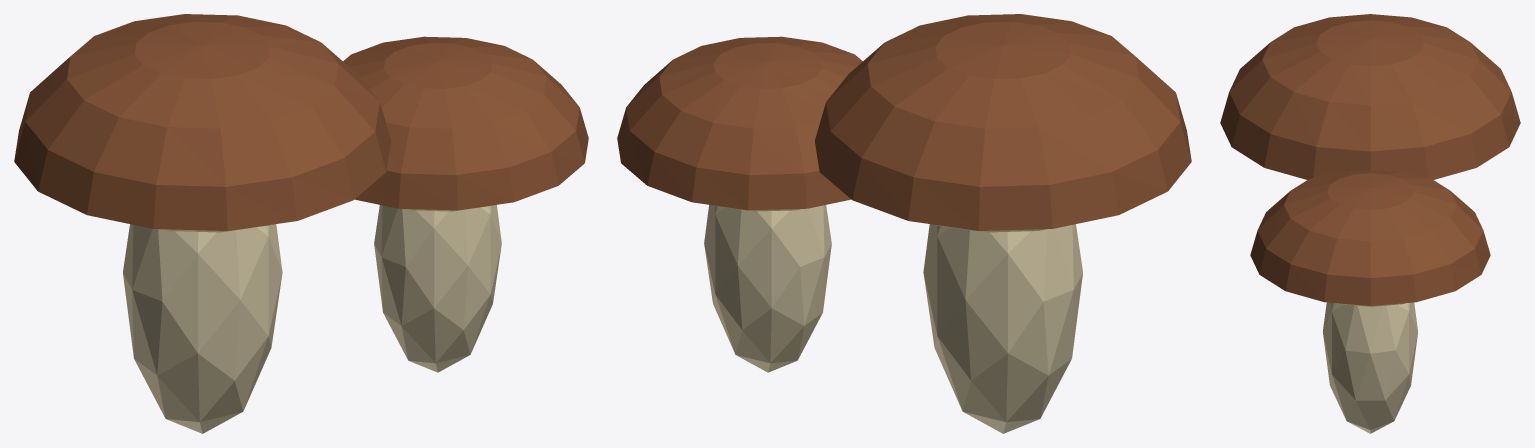
File: mushroom.glb
3 renders of one model, left to right at view 1: azimuth 30°, elevation 25°; view 2: azimuth 150°, elevation 25°; view 3: azimuth 270°, elevation 25°, orthographic. The views are drawn at different scales.
Visible parts, largest first — view 1: Porcini 1 brown cushion cap, Porcini 1 bulbous stem; view 2: Porcini 1 brown cushion cap, Porcini 1 bulbous stem; view 3: Porcini 1 brown cushion cap, Porcini 1 bulbous stem.
Boxes of the visible parts, bbox=[...] form: Porcini 1 brown cushion cap: bbox=[14, 14, 588, 230]; Porcini 1 bulbous stem: bbox=[123, 205, 501, 433]; Porcini 1 brown cushion cap: bbox=[617, 14, 1191, 230]; Porcini 1 bulbous stem: bbox=[704, 205, 1082, 433]; Porcini 1 brown cushion cap: bbox=[1220, 14, 1520, 305]; Porcini 1 bulbous stem: bbox=[1323, 302, 1417, 433].
Size of the model in its own units: 0.2034 by 0.142 by 0.126.
